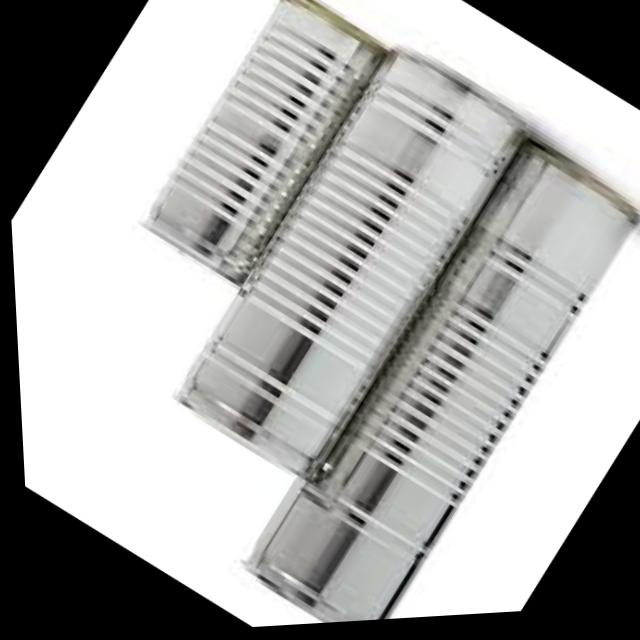metal: (246, 97, 639, 618), (149, 2, 517, 488), (149, 2, 380, 285)
